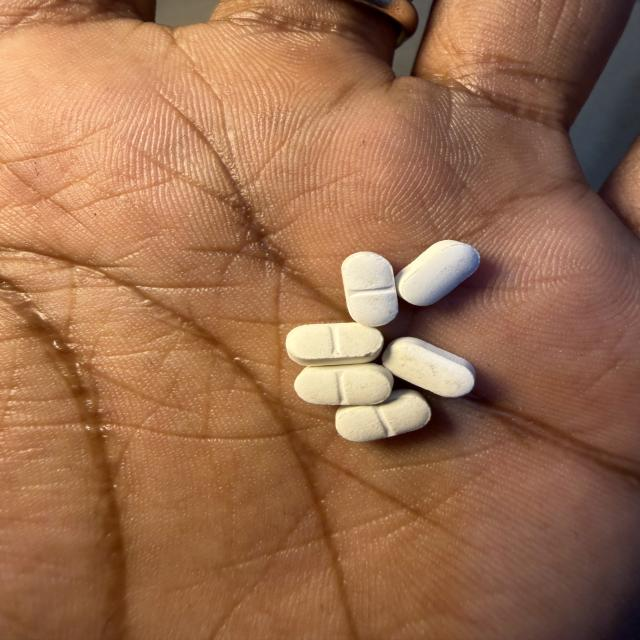pill: (383, 337, 474, 397), (396, 240, 480, 305), (336, 390, 431, 441), (342, 252, 398, 326), (286, 323, 383, 365), (295, 363, 393, 404)
